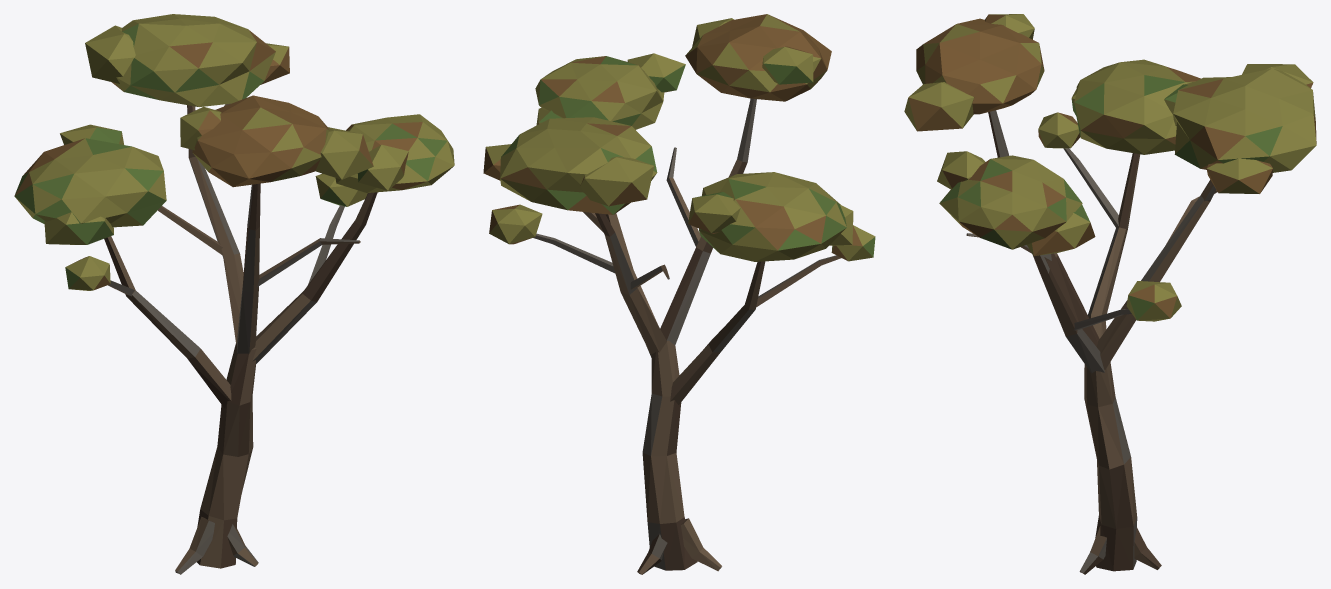
Rendered from tree_b.fbx.
3 renders of one model, left to right at view 1: azimuth 30°, elevation 25°; view 2: azimuth 150°, elevation 25°; view 3: azimuth 270°, elevation 25°, orthographic. The views are drawn at different scales.
Parts seen in each view (by area): view 1: tree_b; view 2: tree_b; view 3: tree_b.
Boxes of the visible parts, x1=… form: tree_b: x1=14, y1=14, x2=454, y2=574; tree_b: x1=483, y1=14, x2=875, y2=574; tree_b: x1=904, y1=14, x2=1316, y2=574.
Bounding box in the file's own units: 3.31 × 4.44 × 3.19.
